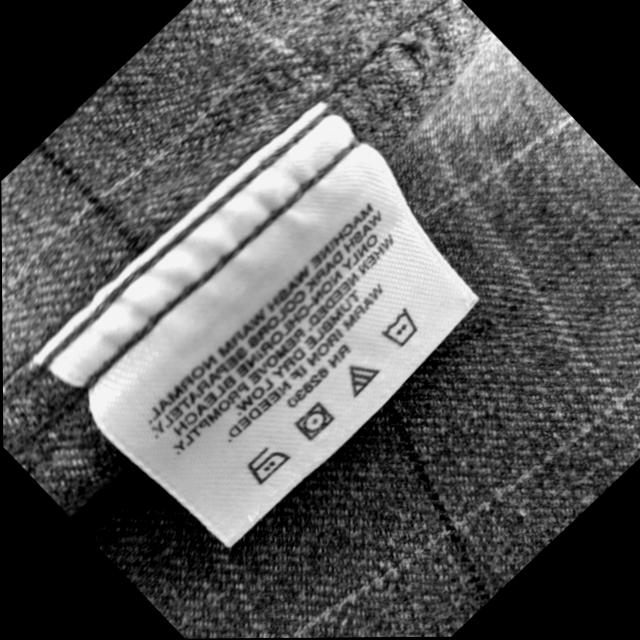40C: (381, 306, 421, 350)
iron_medium: (246, 448, 294, 488)
non_chlorine_bleach: (344, 363, 382, 398)
tumble_dry_low: (297, 402, 337, 441)
